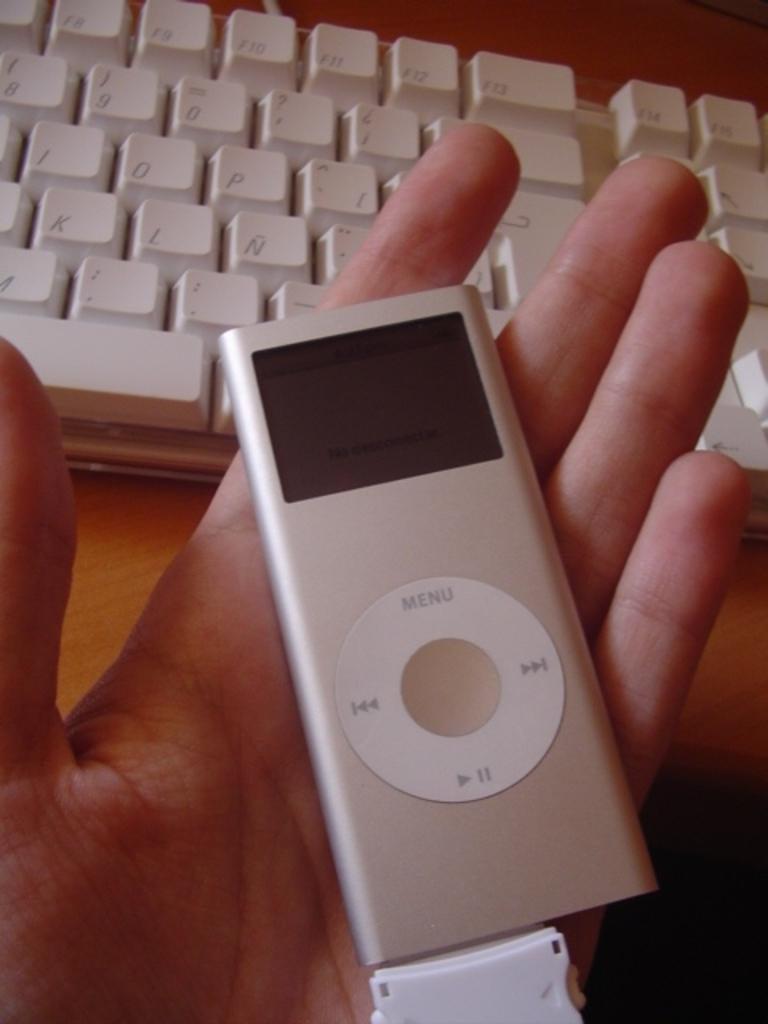Computer-keyboard: (0, 0, 766, 491)
